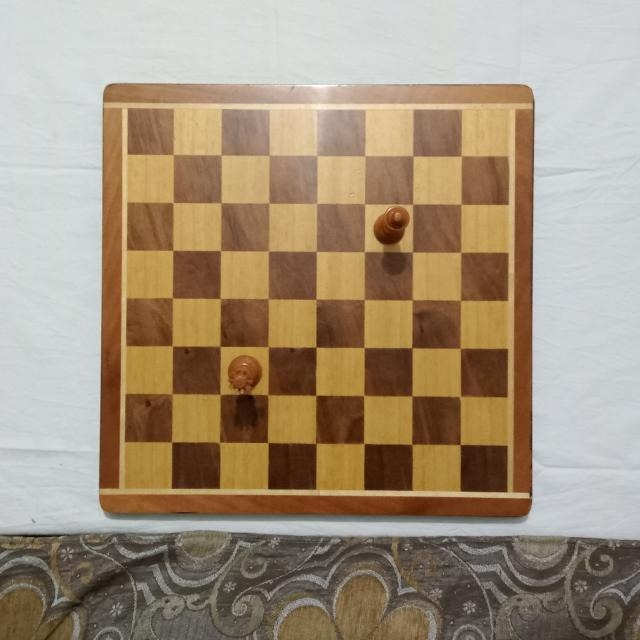white-king: (373, 204, 412, 246)
white-queen: (227, 353, 265, 393)
